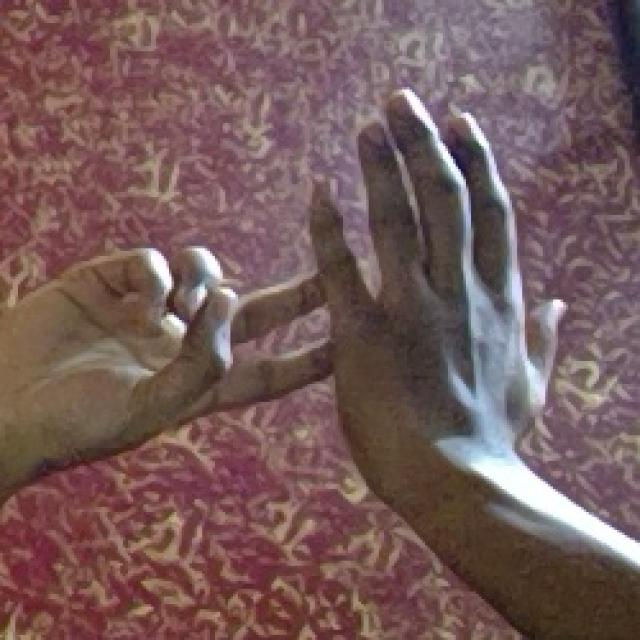Alphabet-N: (0, 82, 568, 515)
